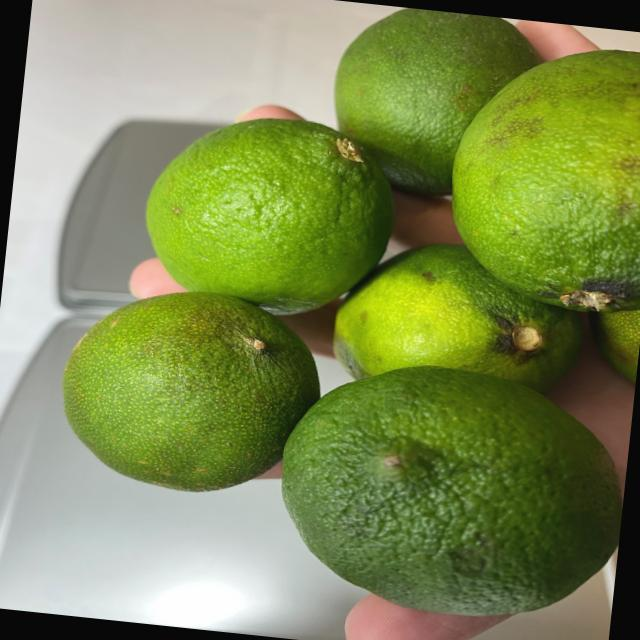lemon: (32, 0, 640, 629)
